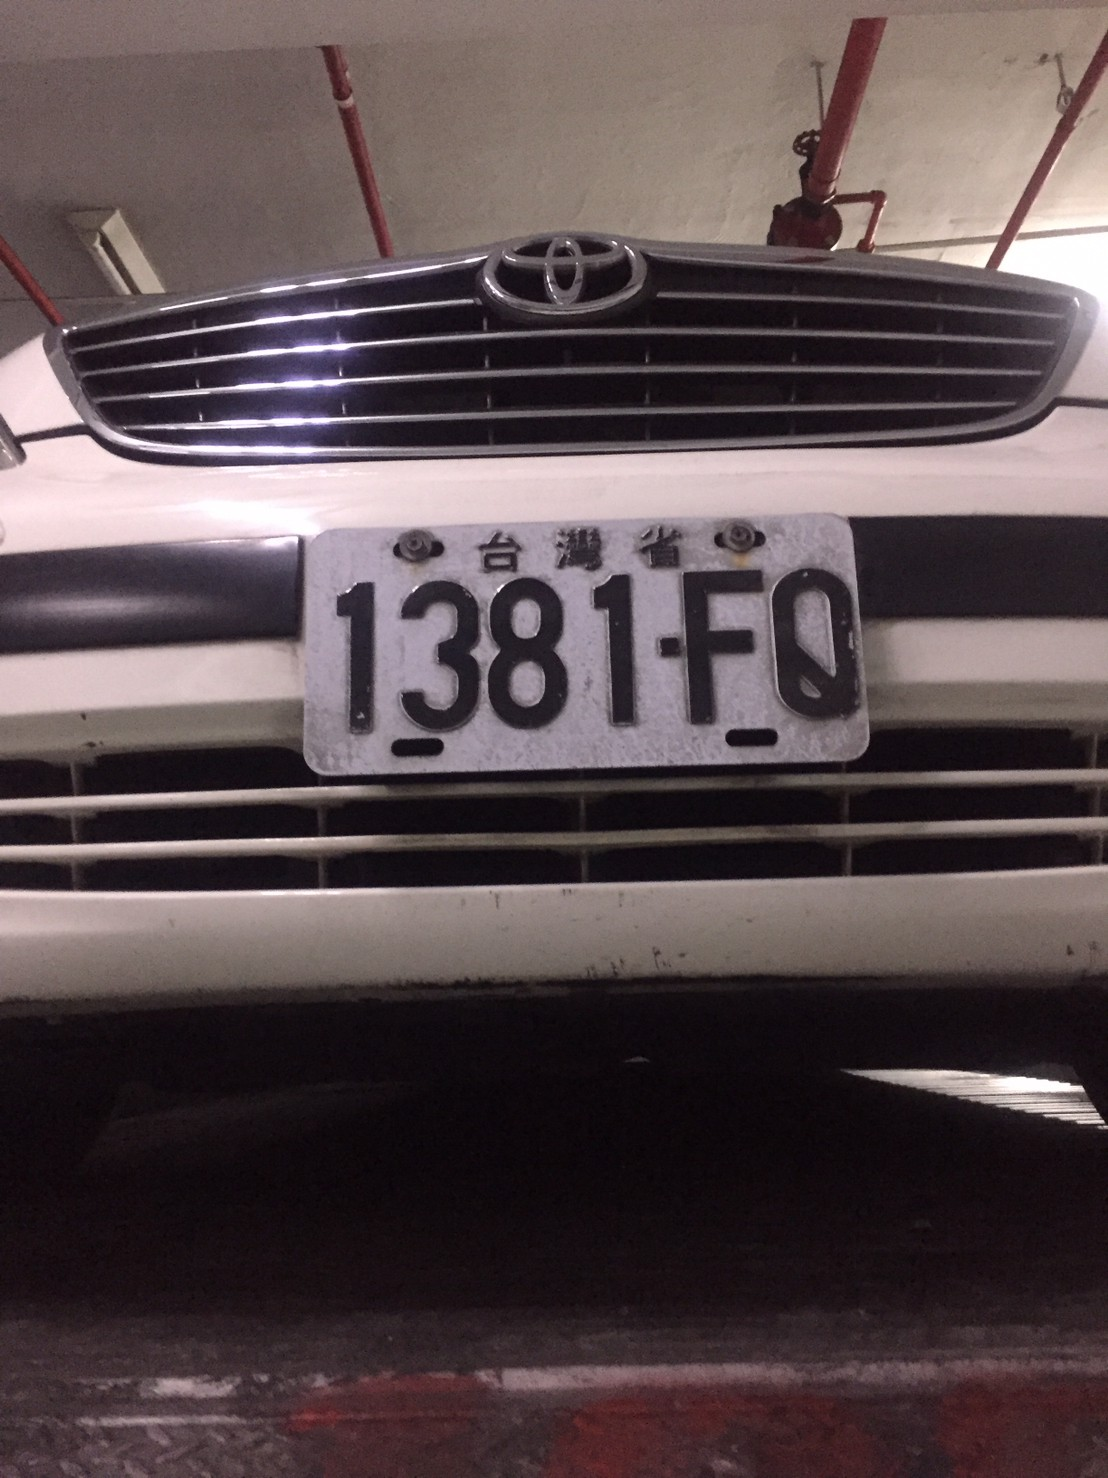LP: (306, 519, 869, 781)
